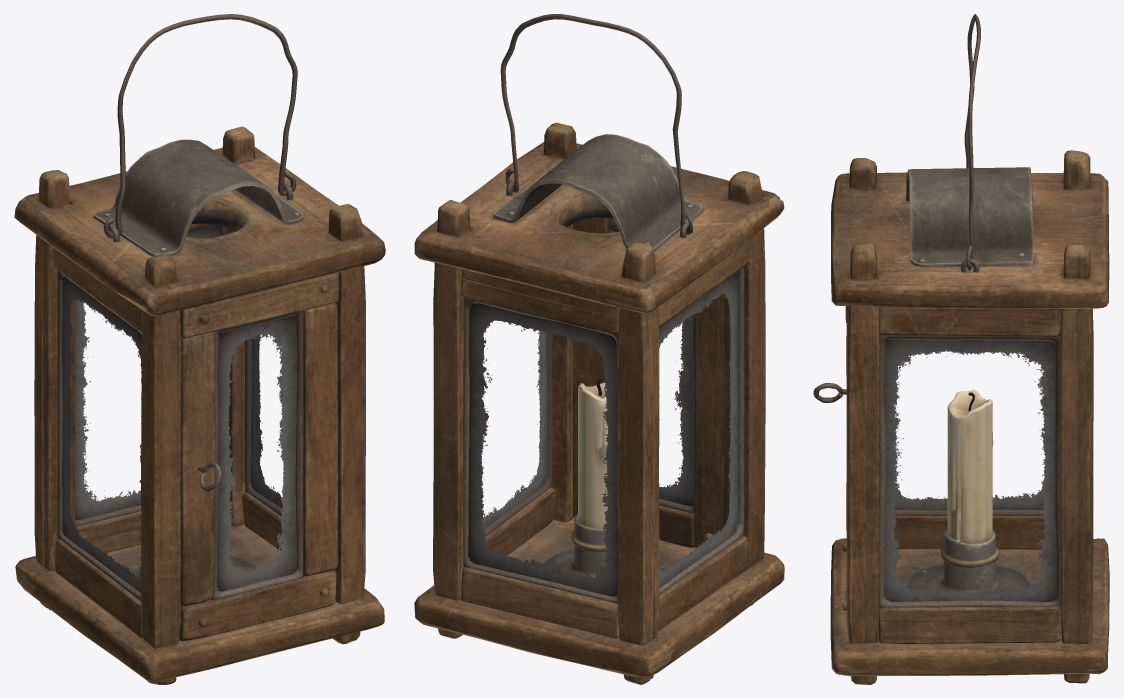
File: wooden_lantern_01_1k.fbx
The picture shows the model from 3 angles, left to right: view 1: azimuth 30°, elevation 25°; view 2: azimuth 150°, elevation 25°; view 3: azimuth 270°, elevation 25°; orthographic projection.
Visible parts, largest first — view 1: wooden_lantern_01, wooden_lantern_01_door, wooden_lantern_01_handle; view 2: wooden_lantern_01, wooden_lantern_01_door, wooden_lantern_01_handle; view 3: wooden_lantern_01, wooden_lantern_01_handle, wooden_lantern_01_door.
Part boxes in pixels (x1,y1,x2,y2): wooden_lantern_01: (14, 126, 385, 684); wooden_lantern_01_door: (179, 272, 339, 641); wooden_lantern_01_handle: (103, 14, 297, 238); wooden_lantern_01: (414, 122, 784, 684); wooden_lantern_01_door: (573, 217, 724, 547); wooden_lantern_01_handle: (500, 14, 692, 234); wooden_lantern_01: (830, 150, 1109, 684); wooden_lantern_01_handle: (964, 14, 980, 270); wooden_lantern_01_door: (813, 306, 847, 610).
Bounding box in the file's own units: 22.1 × 53.01 × 23.47.
Materials: 2 (2 with a texture image).
